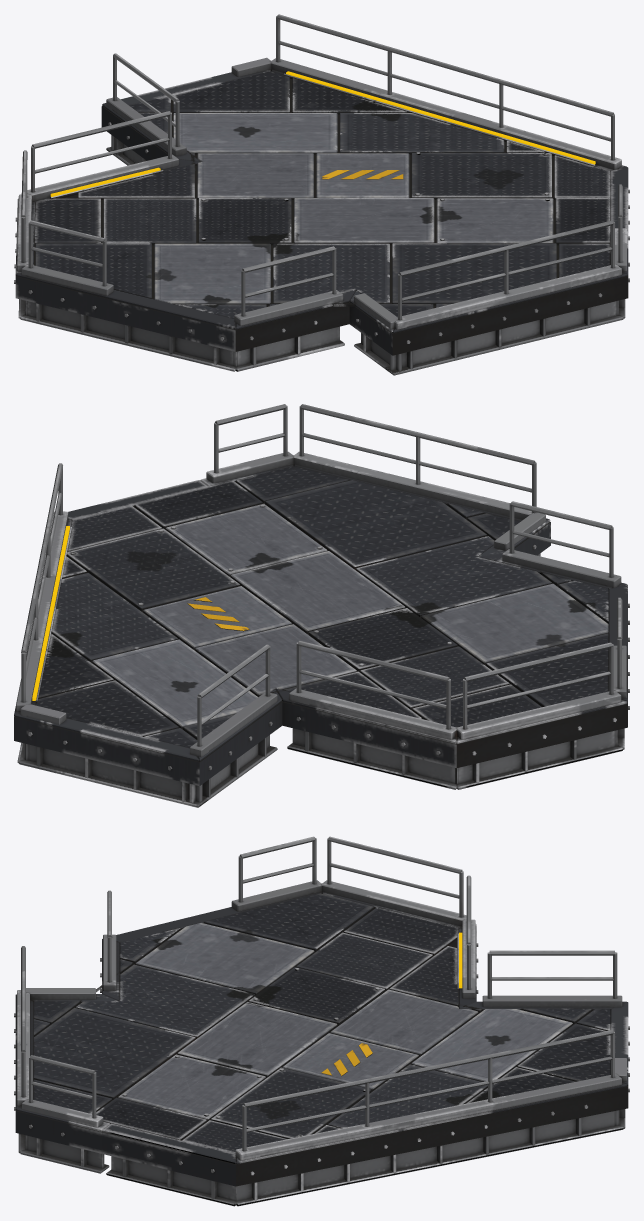
The model's file is nodexeus-set-deck-m7.glb.
3 renders of one model, top to bottom at view 1: azimuth 30°, elevation 25°; view 2: azimuth 150°, elevation 25°; view 3: azimuth 270°, elevation 25°, orthographic. The views are drawn at different scales.
Parts seen in each view (by area): view 1: set-deck-m7; view 2: set-deck-m7; view 3: set-deck-m7.
Boxes of the visible parts, x1,y1,x2,y2 form: set-deck-m7: [14, 14, 629, 375]; set-deck-m7: [14, 404, 629, 807]; set-deck-m7: [14, 836, 629, 1206].
Bounding box in the file's own units: 11.05 × 1.84 × 10.35.
1 material, 1 textured.
